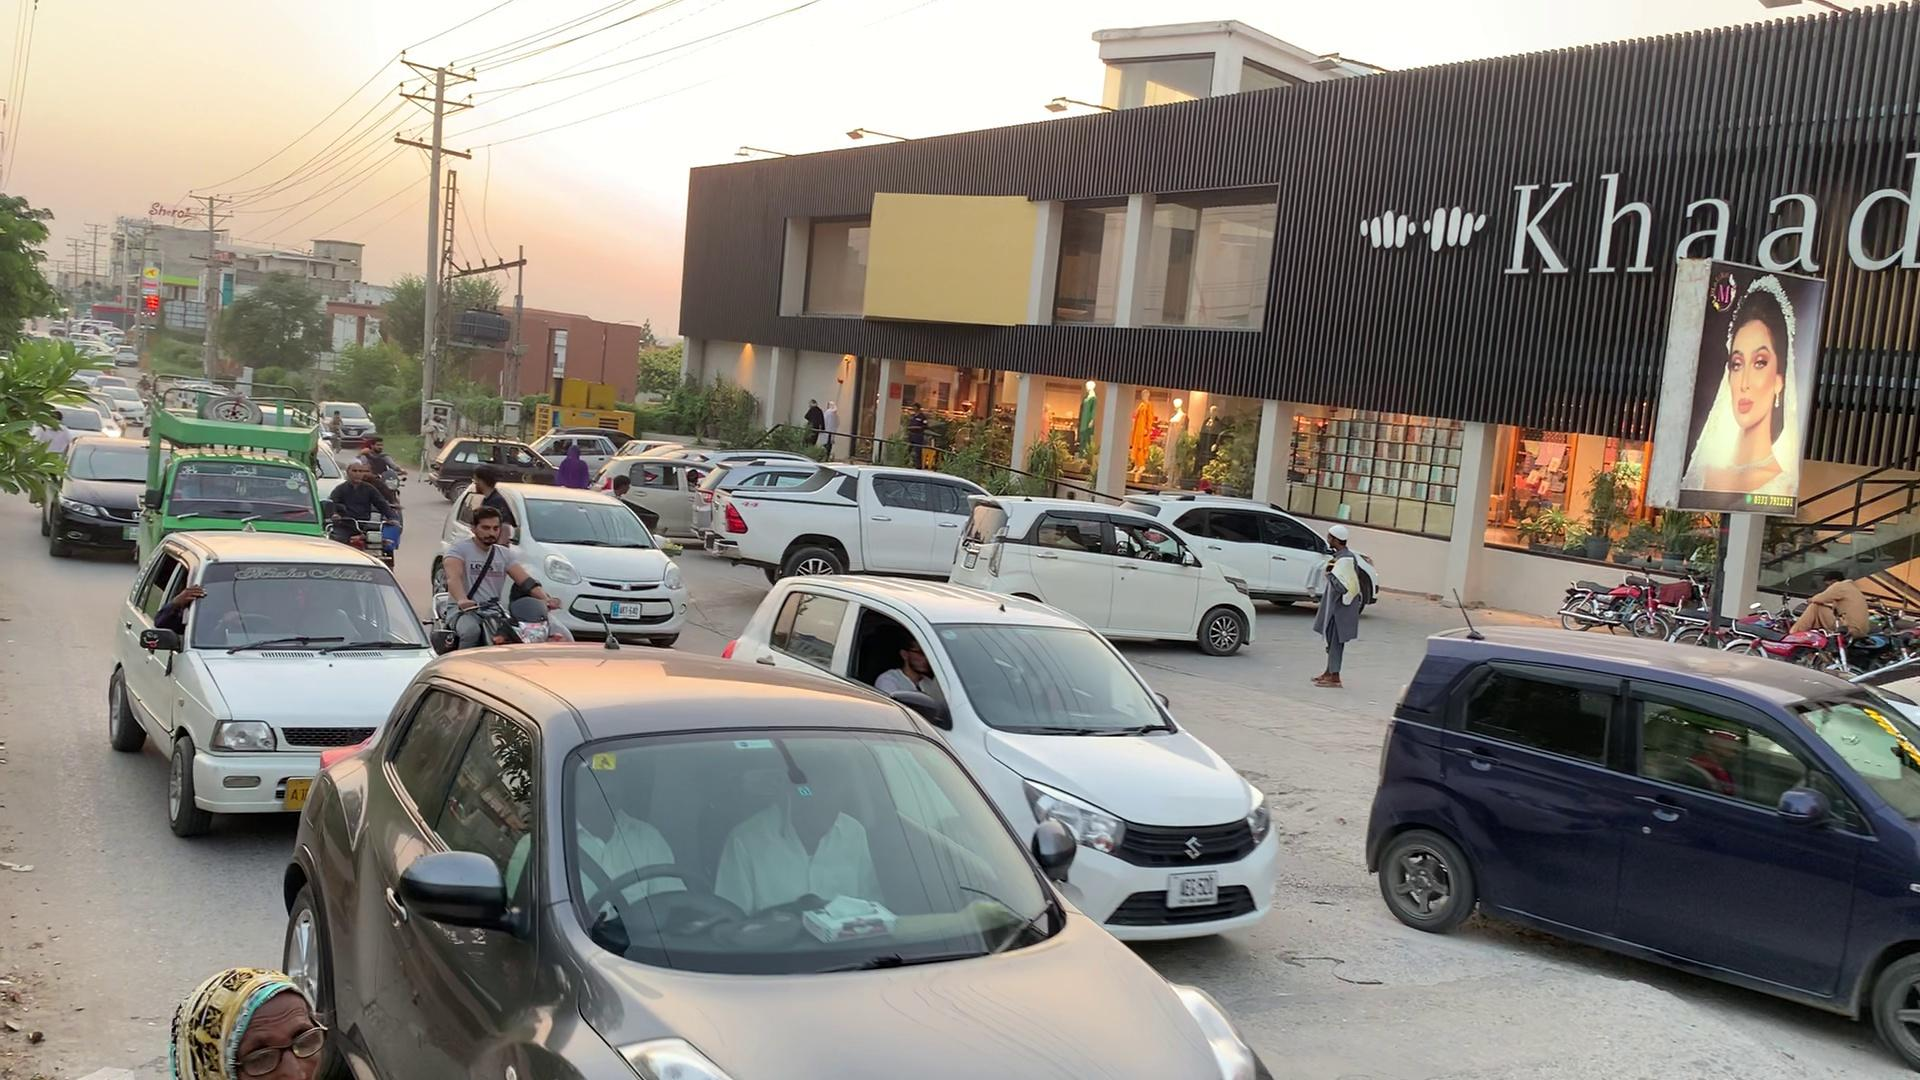windshield: (547, 709, 1108, 956), (924, 622, 1172, 727), (185, 562, 433, 661)
